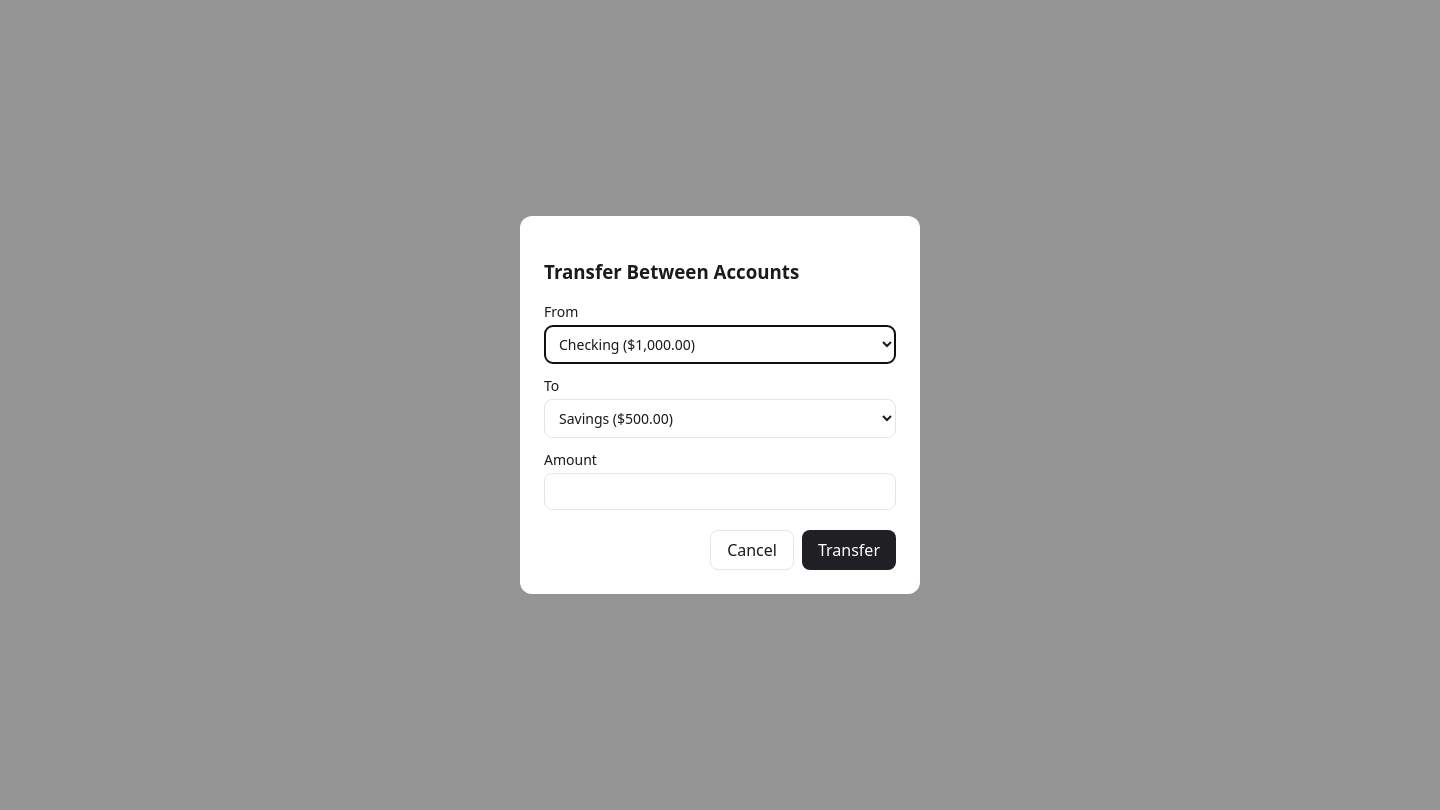
TransferModal › shows a validation error when the same account is chosen for both sides
Select "Checking ($1,000.00)" in the dropdown labelled "To" at (720, 419), box x1=544 y1=399 x2=896 y2=438
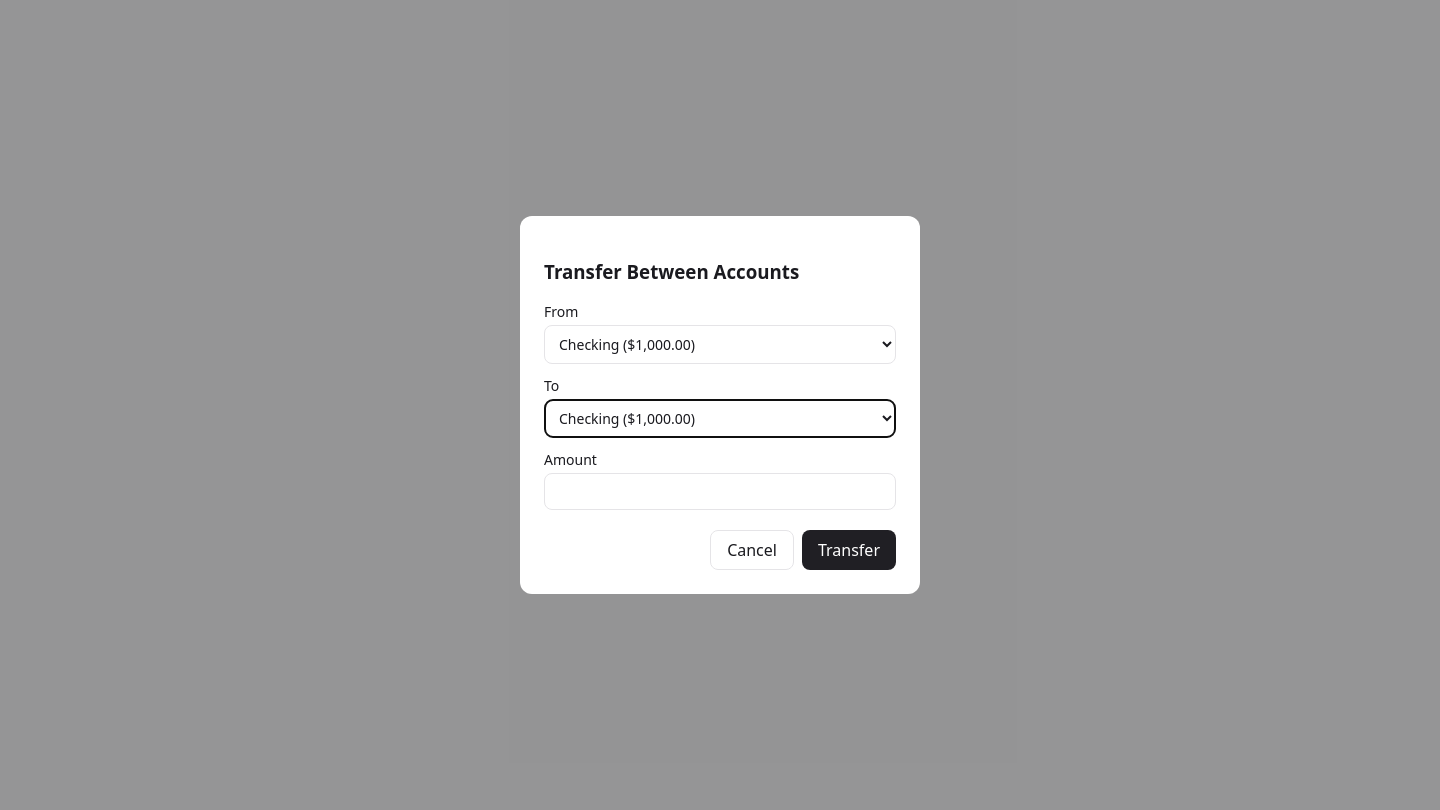
Type "50" into the number field labelled "Amount" at (720, 492), box x1=544 y1=473 x2=896 y2=510
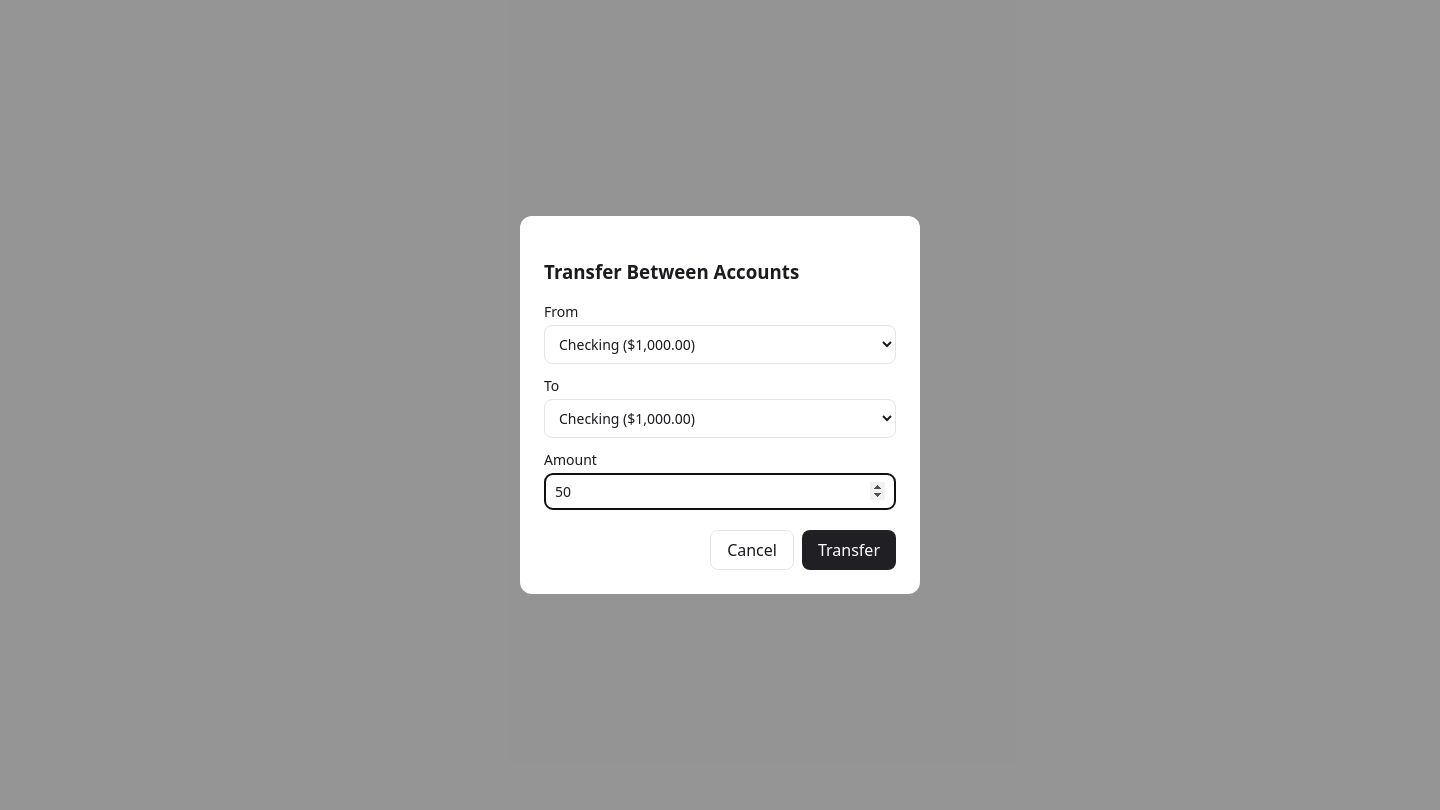
Click the button "Transfer" at (849, 550), box x1=802 y1=530 x2=896 y2=570
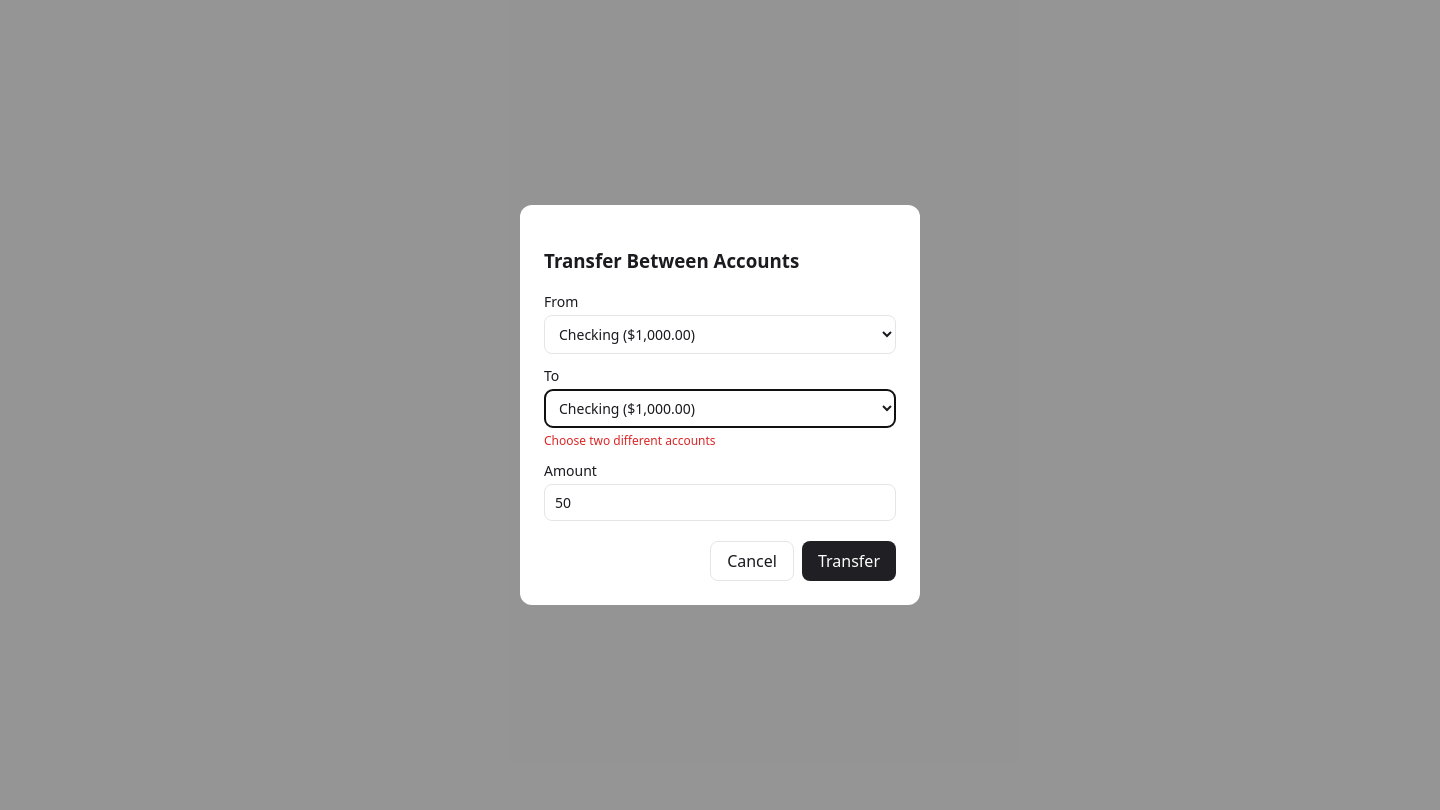
Expected: the text "Choose two different accounts" is shown, x1=544 y1=432 x2=716 y2=449
